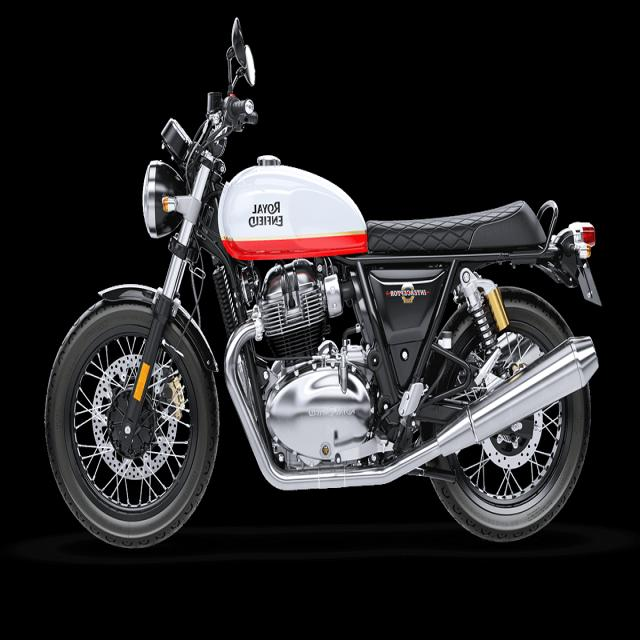motorcycle: (45, 19, 600, 548)
